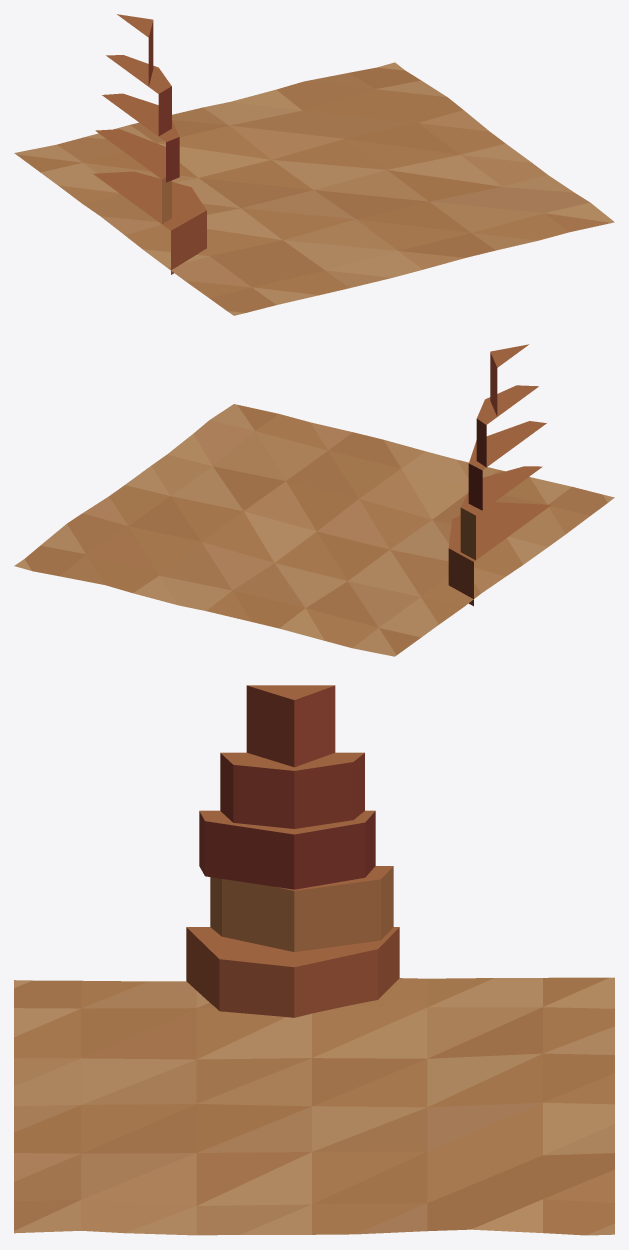
3 views of the same model, one above another, from view 1: azimuth 30°, elevation 25°; view 2: azimuth 150°, elevation 25°; view 3: azimuth 270°, elevation 25° (orthographic). The views are drawn at different scales.
Visible parts, largest first — view 1: baked; view 2: baked; view 3: baked.
Part boxes in pixels (bbox=[...]): baked: bbox=[14, 14, 614, 315]; baked: bbox=[14, 344, 614, 656]; baked: bbox=[14, 685, 614, 1235].
Size of the model in its own units: 62.5 by 34.68 by 62.5.
